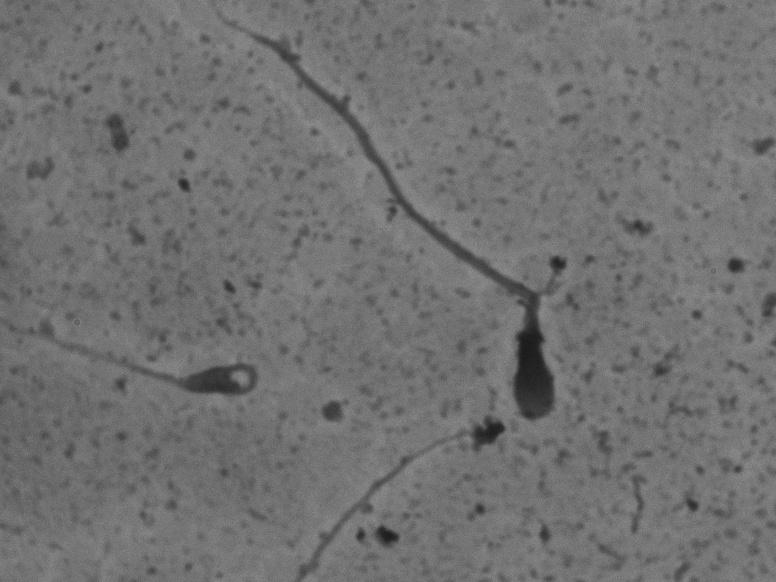Abnormal: (193, 7, 567, 432), (20, 269, 300, 436)
